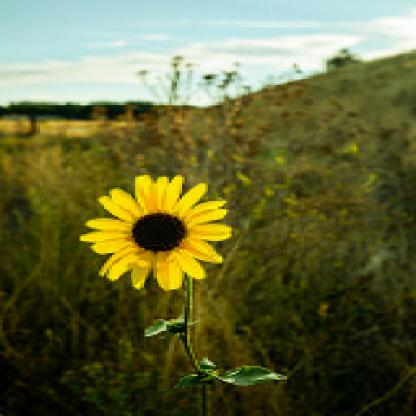SUN FLOWER: (61, 140, 258, 308)
